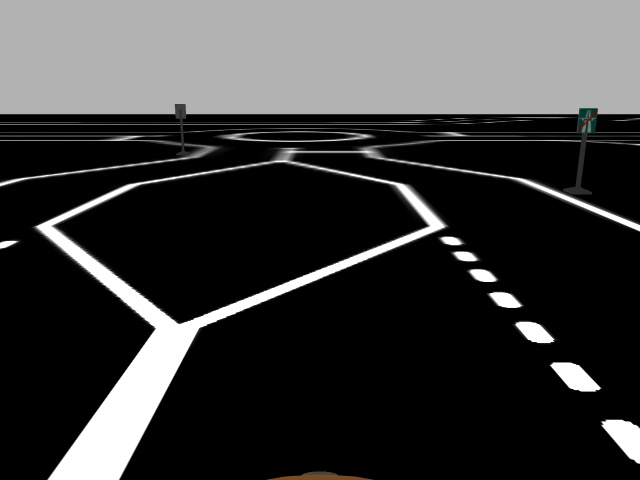leave_highway: (574, 107, 599, 134)
